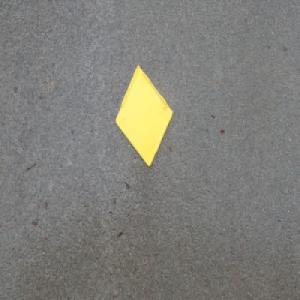PlasticPart: (114, 62, 174, 168)
